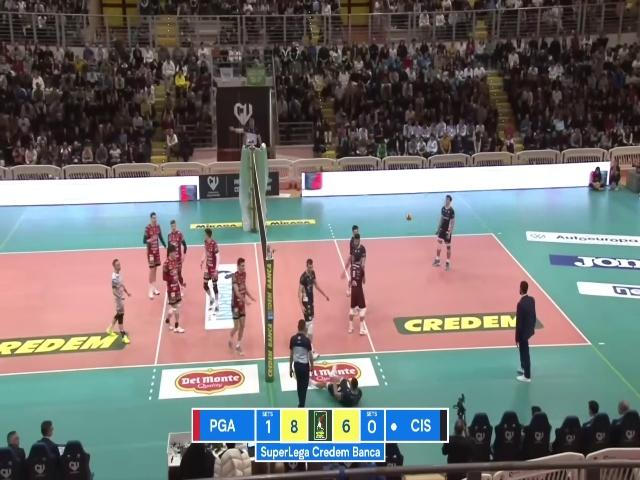volleyball court: (0, 231, 595, 374)
